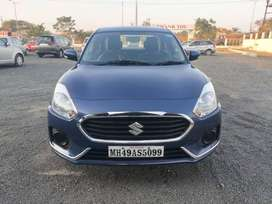MH49AS5099: (108, 145, 164, 157)
